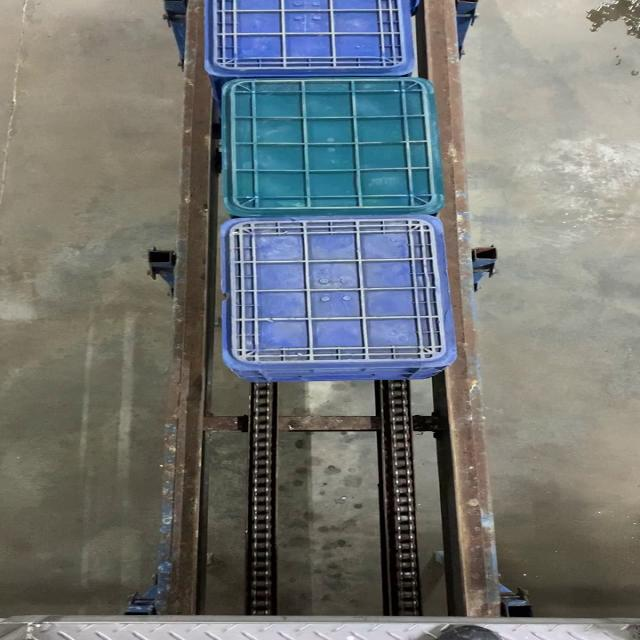Box: (218, 216, 455, 366), (221, 78, 447, 216)
